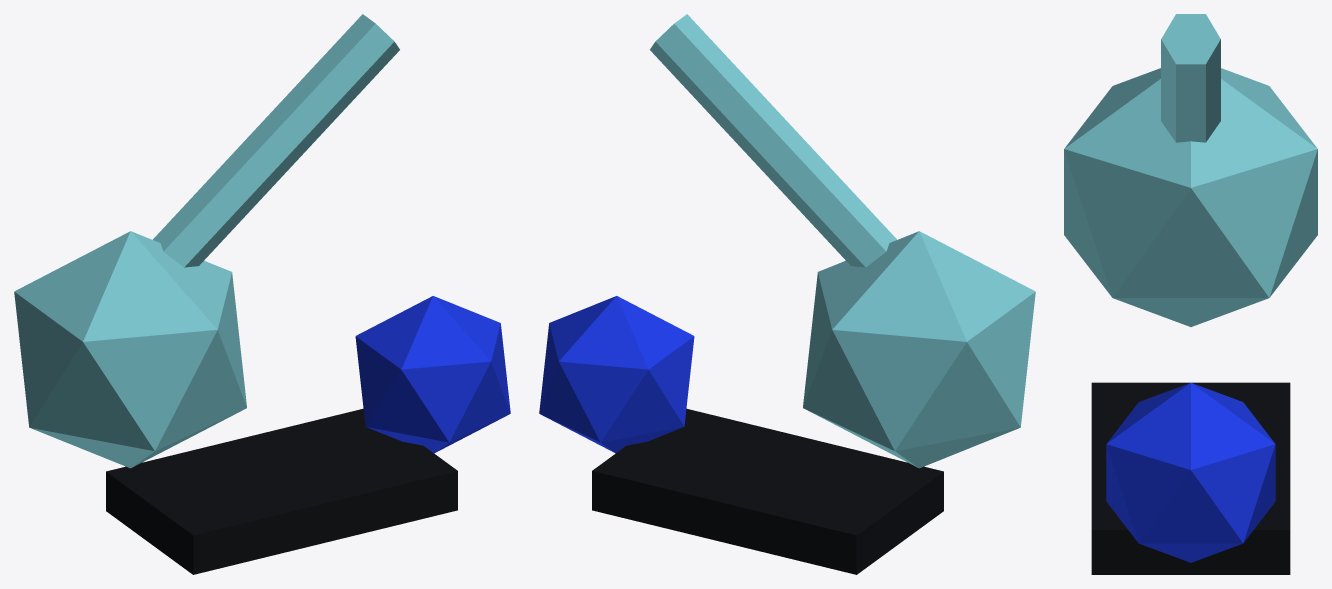
The model's file is distiller.obj.
3 renders of one model, left to right at view 1: azimuth 30°, elevation 25°; view 2: azimuth 150°, elevation 25°; view 3: azimuth 270°, elevation 25°, orthographic. The views are drawn at different scales.
Visible parts, largest first — view 1: distiller; view 2: distiller; view 3: distiller.
Part boxes in pixels (box(x1,y1,x2,y2)): distiller: box(14, 14, 510, 574); distiller: box(539, 14, 1035, 574); distiller: box(1064, 14, 1317, 574).
Size of the model in its own units: 1.25 by 1.19 by 0.5104.
